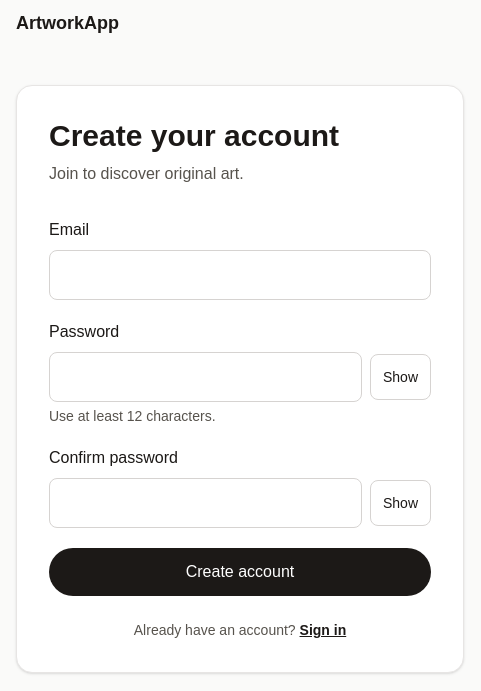
Test: email authentication › explains the password rule and lets users reveal it on register
This screenshot has width=481, height=691.
Expected: the text "Use at least 12 characters." is shown, [49,408,216,424]
Type "long-password-123" into the password field labelled "Password" at (206, 377), box [49,352,362,402]
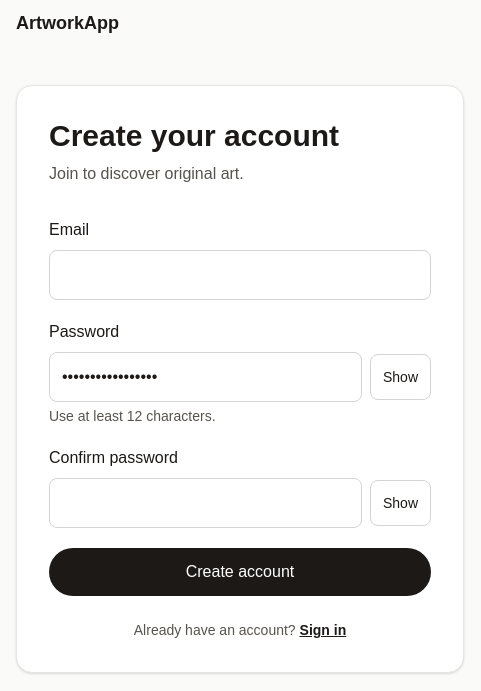
Click the button with aria-label "Show password" at (400, 377), box [370,354,431,400]
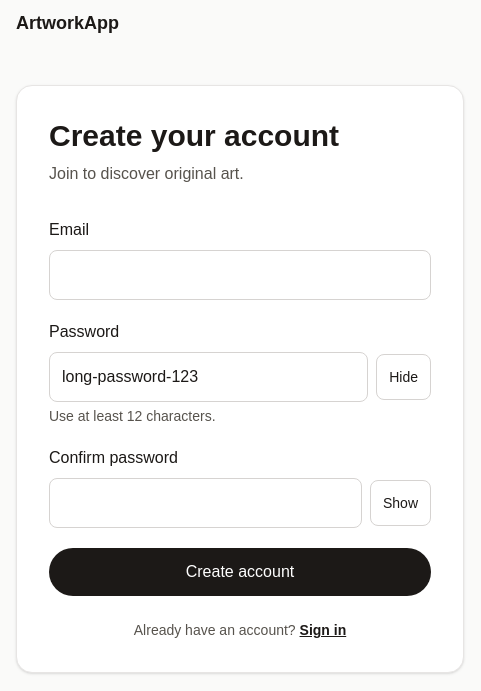
Now the field labelled "Password" shows its text, box [49,352,368,402]
Click the button with aria-label "Hide password" at (404, 377), box [376,354,431,400]
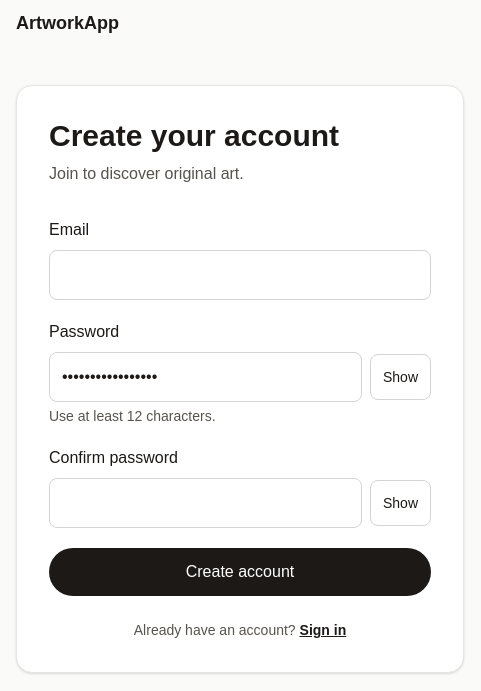
Now the password field labelled "Password" hides its text, box [49,352,362,402]
